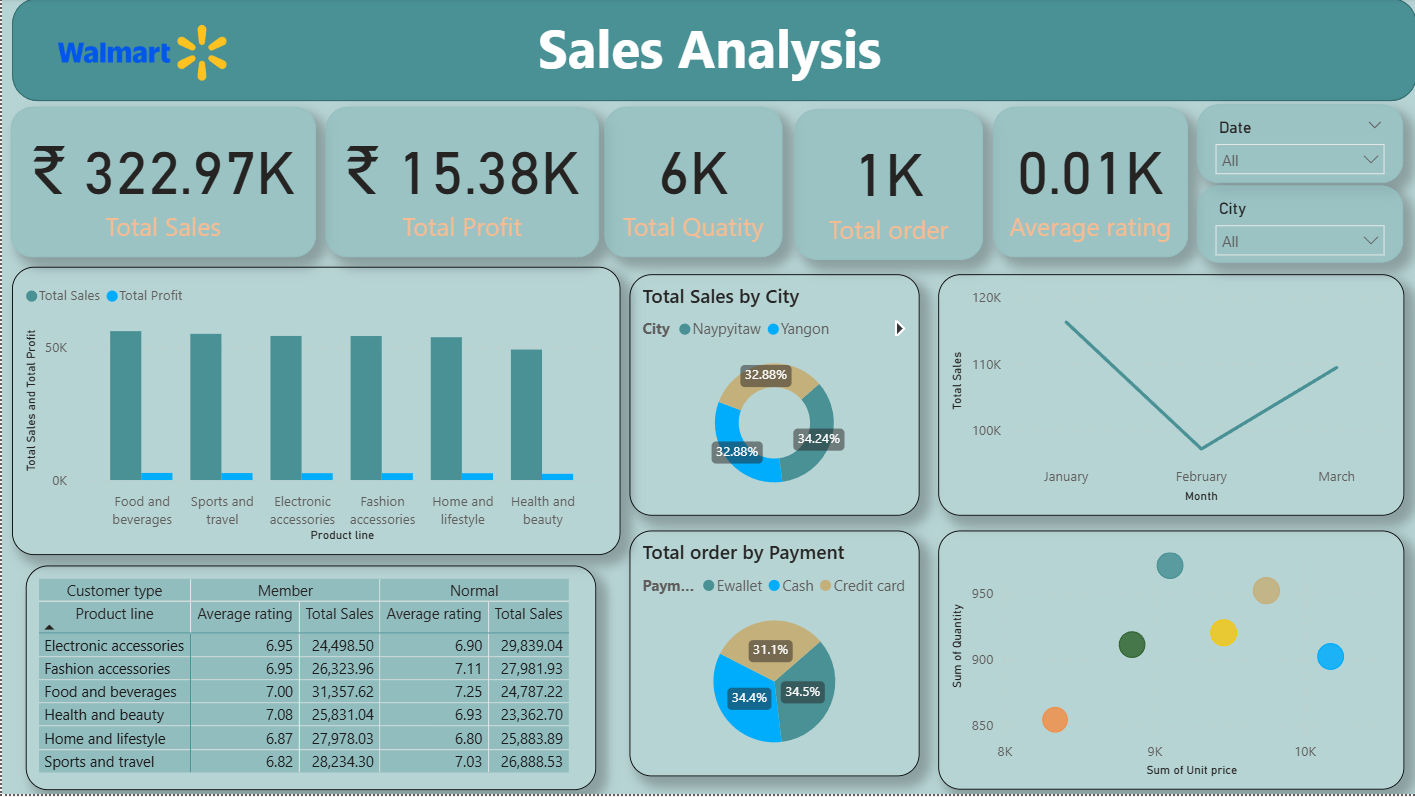

Layout of this report page (visuals, bound fields, positions):
{"tool":"powerbi","page":{"name":"Page 1","canvas":[1280,720],"ordinal":0},"visuals":[{"type":"shape","box":[9.6,0,1270.7,93.3],"z":0},{"type":"image","box":[27.4,0,199,98.8],"z":1000},{"type":"card","fields":{"Values":["WalmartSalesData csv (1).Total Sales"]},"box":[8.2,98.8,275.8,135.8],"z":2000},{"type":"textbox","box":[462.4,6.9,355.4,79.6],"z":3000},{"type":"card","fields":{"Values":["WalmartSalesData csv (1).Total Profit"]},"box":[292.3,98.8,247,135.8],"z":4000},{"type":"card","fields":{"Values":["WalmartSalesData csv (1).Total Quatity"]},"box":[544.8,98.8,160.5,135.8],"z":5000},{"type":"card","fields":{"Values":["WalmartSalesData csv (1).Total order"]},"box":[716.3,100.2,170.2,135.8],"z":6000},{"type":"card","fields":{"Values":["WalmartSalesData csv (1).Average rating"]},"box":[896.1,98.8,175.6,135.8],"z":7000},{"type":"slicer","fields":{"Values":["WalmartSalesData csv (1).Date"]},"box":[1081.3,96.1,186.6,71.4],"z":8000},{"type":"slicer","fields":{"Values":["WalmartSalesData csv (1).City"]},"box":[1081.3,170.2,186.6,70],"z":9000},{"type":"lineClusteredColumnComboChart","fields":{"Category":["WalmartSalesData csv (1).Product line"],"Y":["WalmartSalesData csv (1).Total Sales","WalmartSalesData csv (1).Total Profit"]},"box":[9.6,242.9,550.3,260.7],"z":10000},{"type":"lineChart","fields":{"Category":["WalmartSalesData csv (1).Date.Variation.Date Hierarchy.Month","WalmartSalesData csv (1).Date.Variation.Date Hierarchy.Day"],"Y":["WalmartSalesData csv (1).Total Sales"]},"box":[846.7,249.7,421.3,218.2],"z":11000},{"type":"donutChart","fields":{"Category":["WalmartSalesData csv (1).City"],"Y":["WalmartSalesData csv (1).Total Sales"]},"box":[568.1,249.7,262.1,218.2],"z":12000},{"type":"pieChart","fields":{"Category":["WalmartSalesData csv (1).Payment"],"Y":["WalmartSalesData csv (1).Total order"]},"box":[568.1,481.6,262.1,222.3],"z":13000},{"type":"pivotTable","fields":{"Rows":["WalmartSalesData csv (1).Product line"],"Columns":["WalmartSalesData csv (1).Customer type","WalmartSalesData csv (1).Gender"],"Values":["WalmartSalesData csv (1).Average rating","WalmartSalesData csv (1).Total Sales"]},"box":[22,513.2,516,203.1],"z":14000},{"type":"scatterChart","fields":{"X":["Sum(WalmartSalesData csv (1).Unit price)"],"Y":["Sum(WalmartSalesData csv (1).Quantity)"],"Series":["WalmartSalesData csv (1).Product line"],"Size":["WalmartSalesData csv (1).Total Sales"]},"box":[846.7,481.6,421.3,234.6],"z":15000}]}

Visuals, with their boxes in screenshot pixels (x1, y1, x2, y2), scaled from the page's 1280x720 canvas onto the 1415x797 screenshot:
shape: (left=11, top=0, right=1414, bottom=103)
image: (left=30, top=0, right=250, bottom=109)
card - WalmartSalesData csv (1).Total Sales: (left=9, top=109, right=314, bottom=260)
textbox: (left=511, top=8, right=904, bottom=96)
card - WalmartSalesData csv (1).Total Profit: (left=323, top=109, right=596, bottom=260)
card - WalmartSalesData csv (1).Total Quatity: (left=602, top=109, right=780, bottom=260)
card - WalmartSalesData csv (1).Total order: (left=792, top=111, right=980, bottom=261)
card - WalmartSalesData csv (1).Average rating: (left=991, top=109, right=1185, bottom=260)
slicer - WalmartSalesData csv (1).Date: (left=1195, top=106, right=1402, bottom=185)
slicer - WalmartSalesData csv (1).City: (left=1195, top=188, right=1402, bottom=266)
lineClusteredColumnComboChart - WalmartSalesData csv (1).Product line x WalmartSalesData csv (1).Total Sales: (left=11, top=269, right=619, bottom=557)
lineChart - WalmartSalesData csv (1).Date.Variation.Date Hierarchy.Month x WalmartSalesData csv (1).Date.Variation.Date Hierarchy.Day: (left=936, top=276, right=1402, bottom=518)
donutChart - WalmartSalesData csv (1).City x WalmartSalesData csv (1).Total Sales: (left=628, top=276, right=918, bottom=518)
pieChart - WalmartSalesData csv (1).Payment x WalmartSalesData csv (1).Total order: (left=628, top=533, right=918, bottom=779)
pivotTable - WalmartSalesData csv (1).Product line x WalmartSalesData csv (1).Customer type: (left=24, top=568, right=595, bottom=793)
scatterChart - Sum(WalmartSalesData csv (1).Unit price) x Sum(WalmartSalesData csv (1).Quantity): (left=936, top=533, right=1402, bottom=793)
